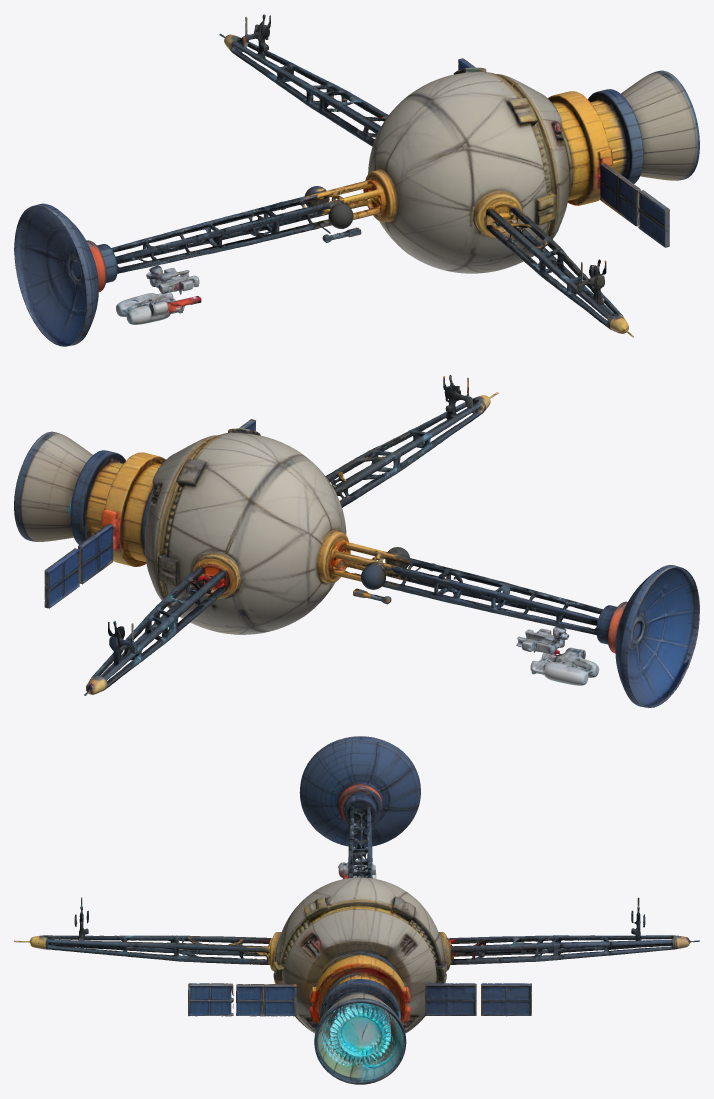
Rendered from axon.glb.
The picture shows the model from 3 angles, top to bottom: view 1: azimuth 30°, elevation 25°; view 2: azimuth 150°, elevation 25°; view 3: azimuth 270°, elevation 25°; orthographic projection. The views are drawn at different scales.
Size of the model in its own units: 1.65 by 0.4615 by 1.9.
1 material, 1 textured.
